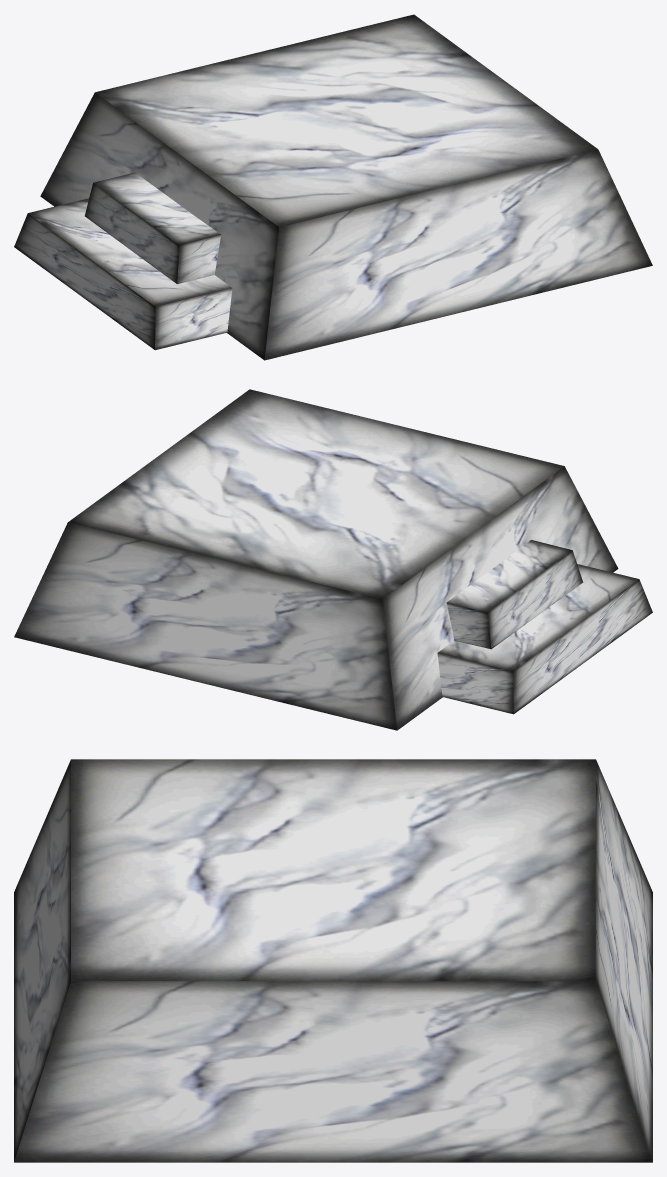
File: Pavillion_2402.glb
The picture shows the model from 3 angles, top to bottom: view 1: azimuth 30°, elevation 25°; view 2: azimuth 150°, elevation 25°; view 3: azimuth 270°, elevation 25°; orthographic projection. The views are drawn at different scales.
Parts seen in each view (by area): view 1: pPlaneShape2, pPlaneShape6, pPlaneShape5, pPlaneShape73, pPlaneShape71, pPlaneShape77, pPlaneShape75, pPlaneShape74, pPlaneShape76; view 2: pPlaneShape2, pPlaneShape4, pPlaneShape5, pPlaneShape73, pPlaneShape71, pPlaneShape77, pPlaneShape75, pPlaneShape72, pPlaneShape78; view 3: pPlaneShape2, pPlaneShape3, pPlaneShape4, pPlaneShape6.
Boxes of the visible parts, bbox=[...] form: pPlaneShape2: bbox=[95, 14, 597, 227]; pPlaneShape6: bbox=[264, 149, 652, 360]; pPlaneShape5: bbox=[40, 92, 278, 360]; pPlaneShape73: bbox=[14, 213, 155, 349]; pPlaneShape71: bbox=[28, 198, 231, 306]; pPlaneShape77: bbox=[85, 183, 179, 283]; pPlaneShape75: bbox=[93, 172, 220, 245]; pPlaneShape74: bbox=[155, 288, 232, 350]; pPlaneShape76: bbox=[177, 235, 220, 283]; pPlaneShape2: bbox=[68, 389, 564, 598]; pPlaneShape4: bbox=[14, 522, 397, 730]; pPlaneShape5: bbox=[383, 466, 618, 730]; pPlaneShape73: bbox=[513, 579, 652, 713]; pPlaneShape71: bbox=[438, 564, 638, 671]; pPlaneShape77: bbox=[488, 550, 583, 648]; pPlaneShape75: bbox=[447, 540, 572, 612]; pPlaneShape72: bbox=[437, 653, 513, 714]; pPlaneShape78: bbox=[446, 602, 491, 648]; pPlaneShape2: bbox=[71, 759, 595, 981]; pPlaneShape3: bbox=[14, 981, 652, 1162]; pPlaneShape4: bbox=[596, 760, 652, 1161]; pPlaneShape6: bbox=[14, 760, 70, 1161].
Size of the model in its own units: 0.6157 by 0.1408 by 0.5192.
13 materials, 13 textured.
